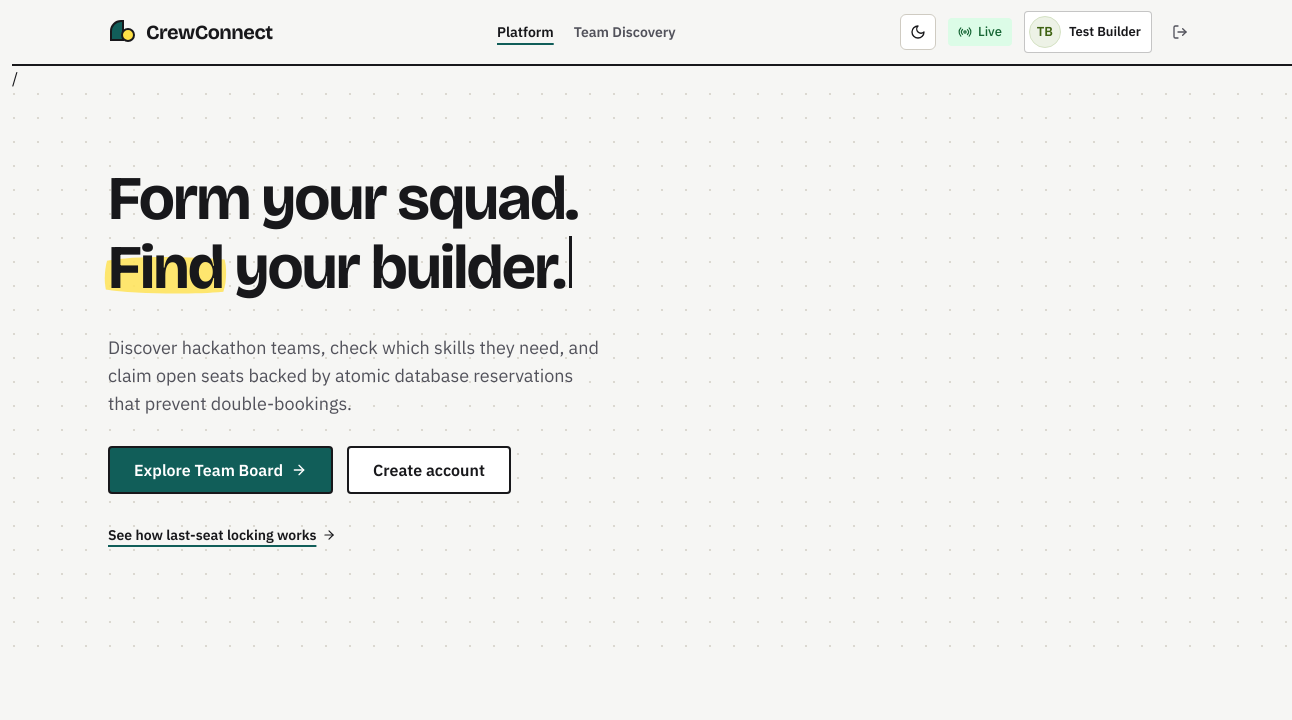
Test: Route Separation: Public Landing Page (/) vs Authenticated Dashboard (/dashboard) › 9. Clicking user's name navigates to /dashboard and clicking CrewConnect logo navigates to /
Expected: the text "Explore Team Board" is shown, x1=134 y1=458 x2=283 y2=482
Note: Click User's name/profile identity in navbar
Click the link "TB Test Builder" at (1088, 32), box x1=1024 y1=11 x2=1152 y2=53
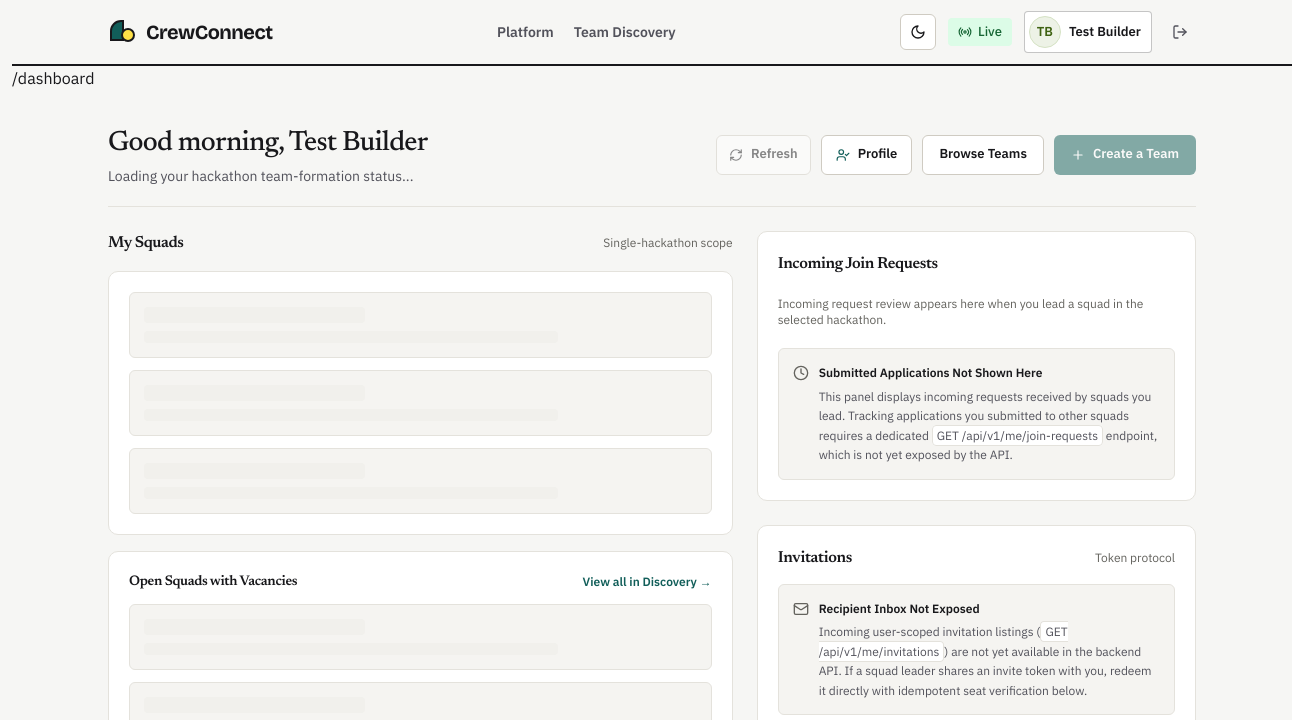
Expected: the button with aria-label "Refresh dashboard data" is shown, x1=716 y1=135 x2=811 y2=175
Note: Click CrewConnect logo in navbar
Click the link "CrewConnect" at (190, 32), box x1=108 y1=18 x2=273 y2=46
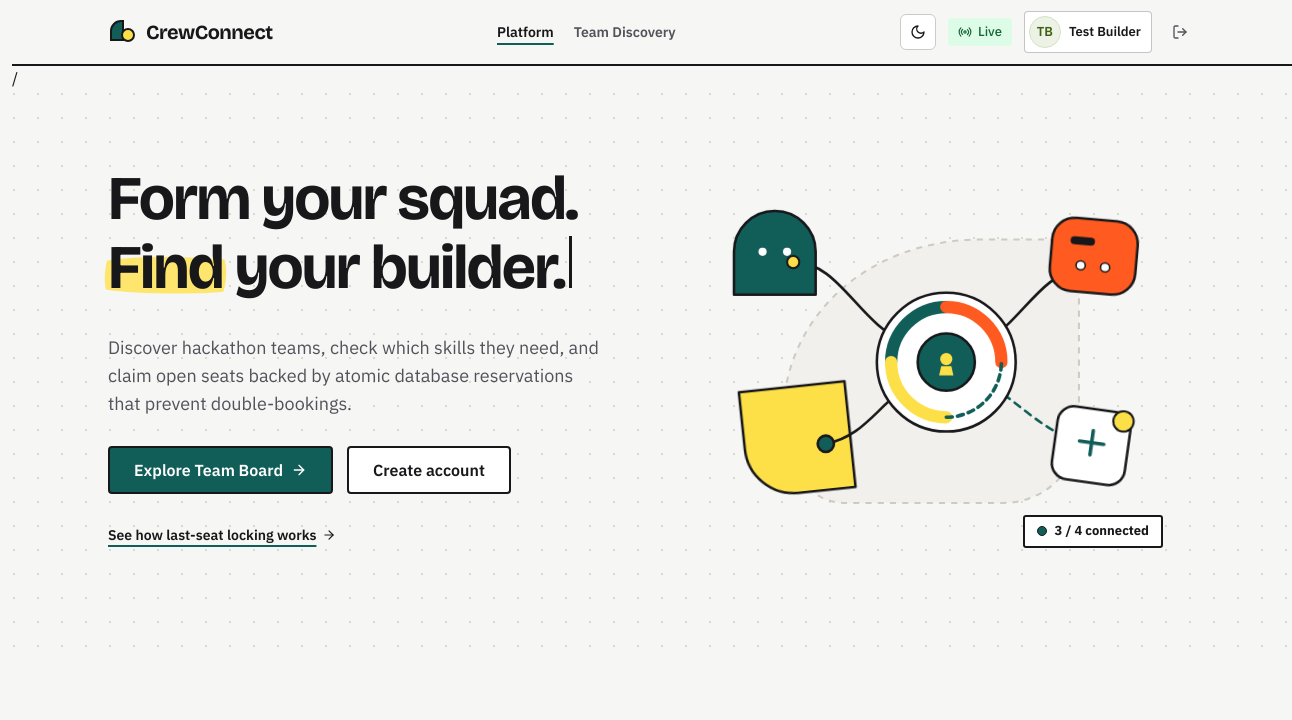
Expected: the text "Explore Team Board" is shown, x1=134 y1=458 x2=283 y2=482
